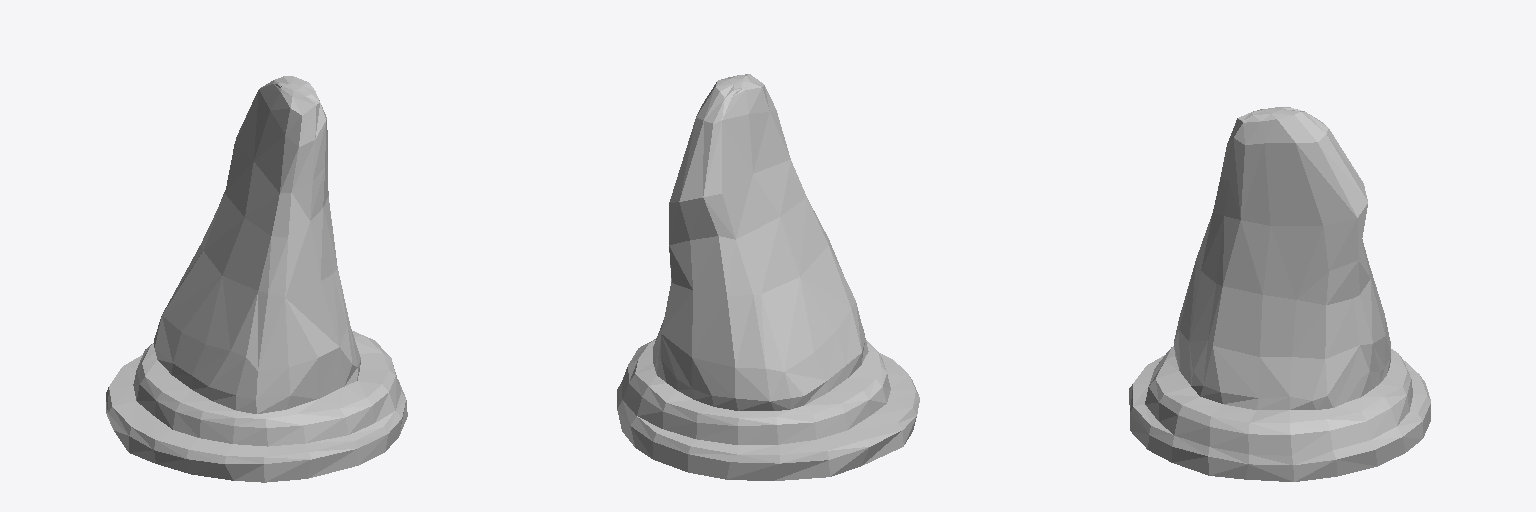
Rendered from rune_02_mesh.obj.
The picture shows the model from 3 angles: view 1: azimuth 30°, elevation 25°; view 2: azimuth 150°, elevation 25°; view 3: azimuth 270°, elevation 25°; orthographic projection.
Parts seen in each view (by area): view 1: rune_02; view 2: rune_02; view 3: rune_02.
Part boxes in pixels (bbox=[...]): rune_02: bbox=[106, 76, 407, 482]; rune_02: bbox=[617, 74, 919, 480]; rune_02: bbox=[1129, 107, 1430, 481].
Bounding box in the file's own units: 7.58 × 9.01 × 7.55.